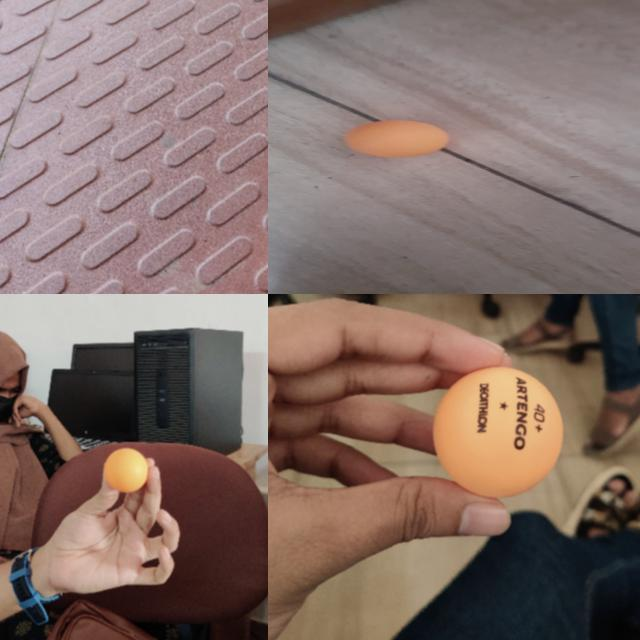ping-pong-ball: (432, 368, 564, 494), (340, 120, 448, 158), (105, 447, 149, 493)
